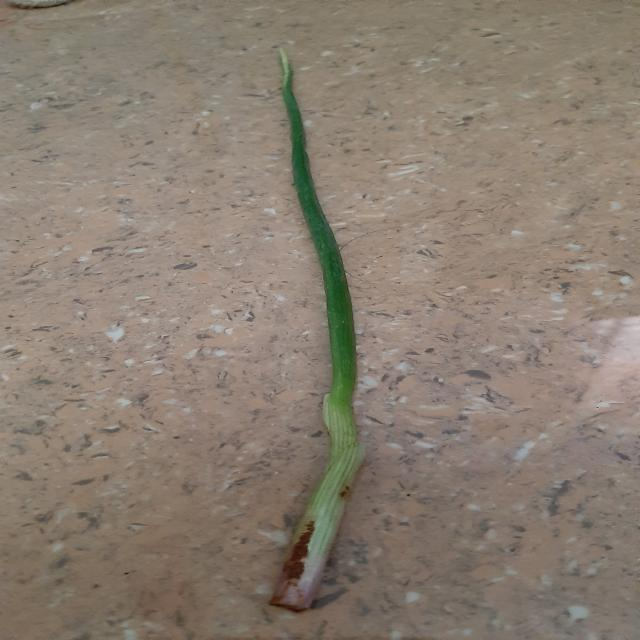onion: (271, 49, 363, 611)
